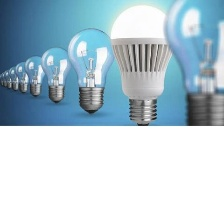light_bulb: (160, 0, 224, 141), (109, 3, 178, 131), (65, 24, 116, 118), (37, 44, 73, 105), (21, 53, 47, 99), (14, 58, 33, 94), (8, 64, 22, 92), (3, 69, 12, 90)
